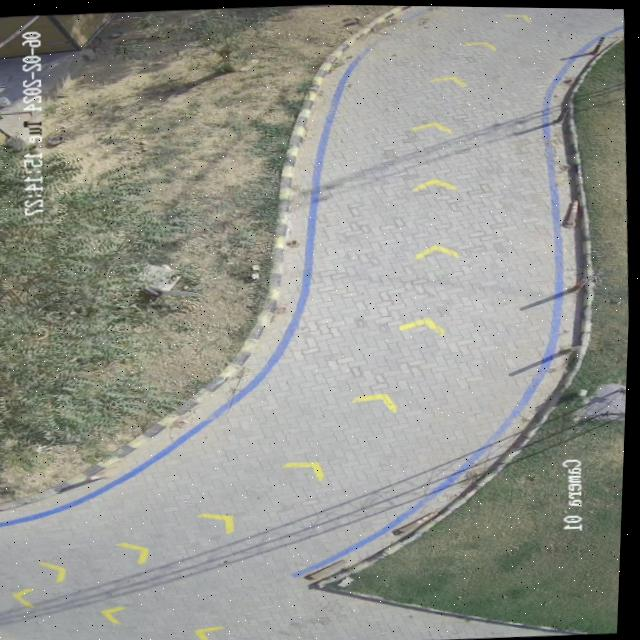No Car: (0, 4, 631, 640)
